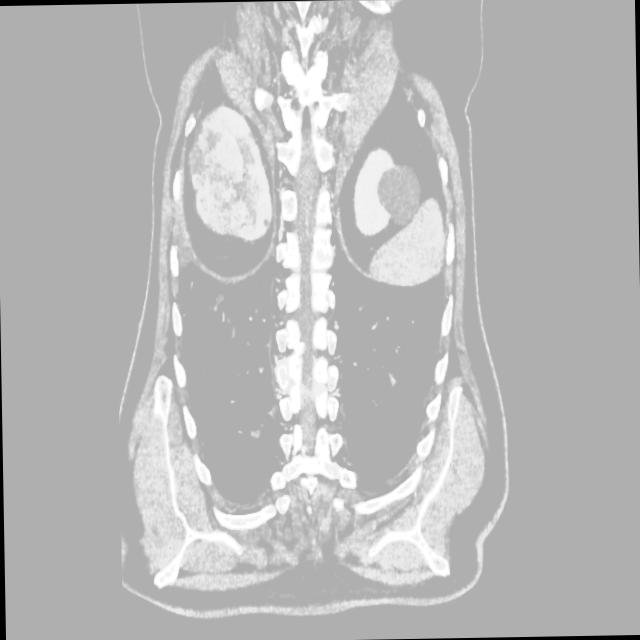TUMOR: (126, 21, 459, 280)
